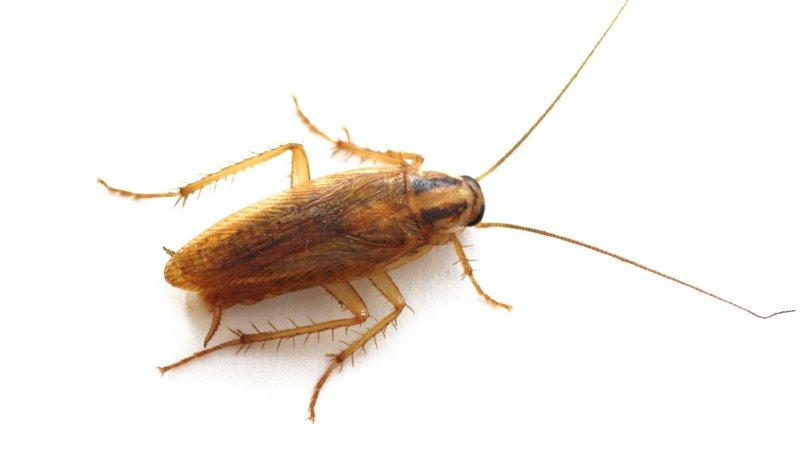cockroach: (161, 166, 487, 317)
